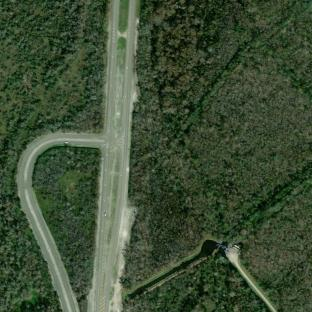Floresta: (122, 0, 312, 287), (0, 0, 108, 312), (33, 147, 100, 303), (242, 185, 312, 312), (122, 252, 269, 312)
